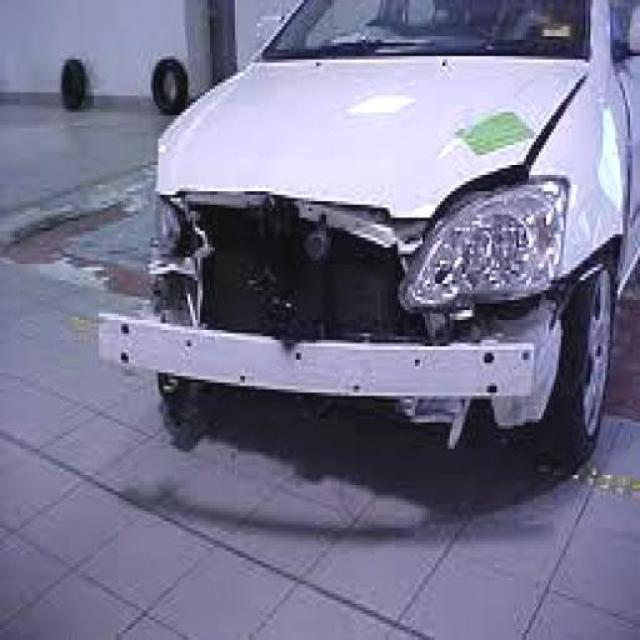Car-Damage: (98, 146, 560, 443)
